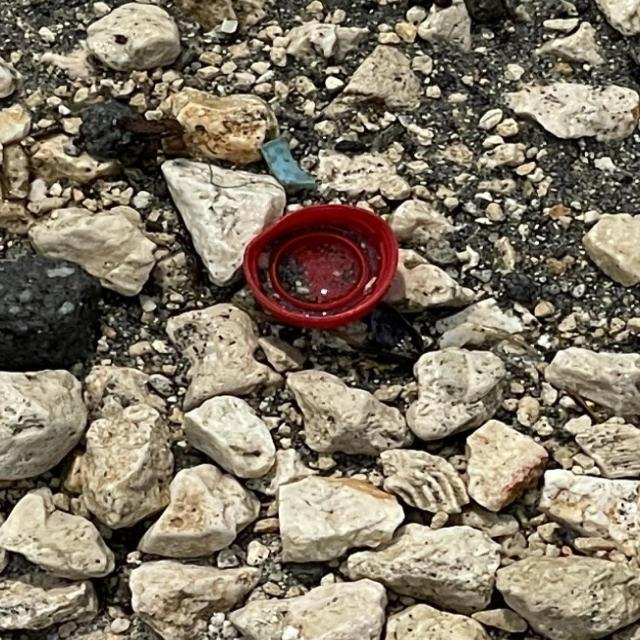plastic_waste: (242, 203, 400, 331)
